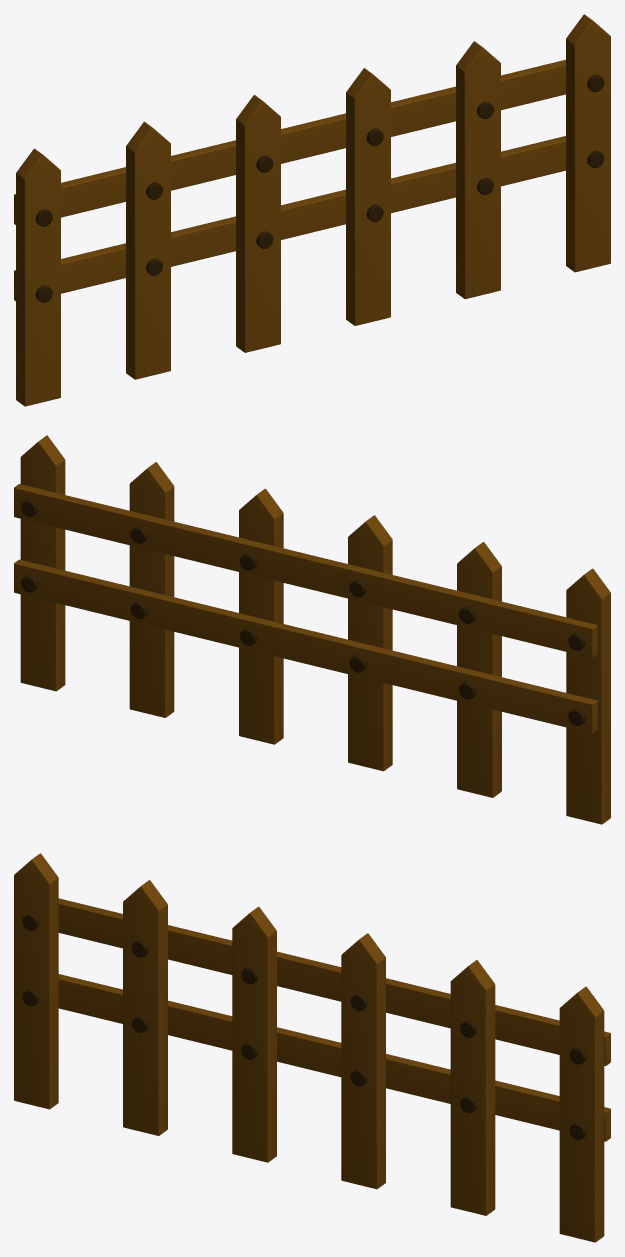
File: fence.fbx
The picture shows the model from 3 angles, top to bottom: view 1: azimuth 30°, elevation 25°; view 2: azimuth 150°, elevation 25°; view 3: azimuth 330°, elevation 25°; orthographic projection.
Visible parts, largest first — view 1: 立方体.001, 立方体.002, 立方体, 立方体.004, 立方体.007, 立方体.005, 立方体.003, 立方体.006; view 2: 立方体.001, 立方体.002, 立方体, 立方体.007, 立方体.006, 立方体.003, 立方体.004, 立方体.005; view 3: 立方体.001, 立方体.002, 立方体.007, 立方体.006, 立方体, 立方体.003, 立方体.004, 立方体.005.
Boxes of the visible parts, x1,y1,x2,y2 form: 立方体.001: [14, 59, 565, 224]; 立方体.002: [14, 136, 565, 301]; 立方体: [16, 148, 60, 406]; 立方体.004: [236, 95, 280, 352]; 立方体.007: [566, 14, 610, 272]; 立方体.005: [346, 68, 390, 325]; 立方体.003: [126, 121, 170, 379]; 立方体.006: [456, 41, 500, 299]; 立方体.001: [14, 484, 597, 658]; 立方体.002: [14, 559, 597, 733]; 立方体: [566, 568, 610, 824]; 立方体.007: [20, 435, 65, 691]; 立方体.006: [129, 462, 174, 717]; 立方体.003: [457, 542, 501, 797]; 立方体.004: [348, 515, 392, 771]; 立方体.005: [239, 488, 283, 744]; 立方体.001: [58, 898, 610, 1065]; 立方体.002: [58, 974, 610, 1141]; 立方体.007: [559, 986, 604, 1242]; 立方体.006: [450, 960, 495, 1215]; 立方体: [14, 853, 58, 1109]; 立方体.003: [123, 880, 167, 1135]; 立方体.004: [232, 906, 276, 1162]; 立方体.005: [341, 933, 385, 1189].
Size of the model in its own units: 12.32 by 4.96 by 0.7453.
